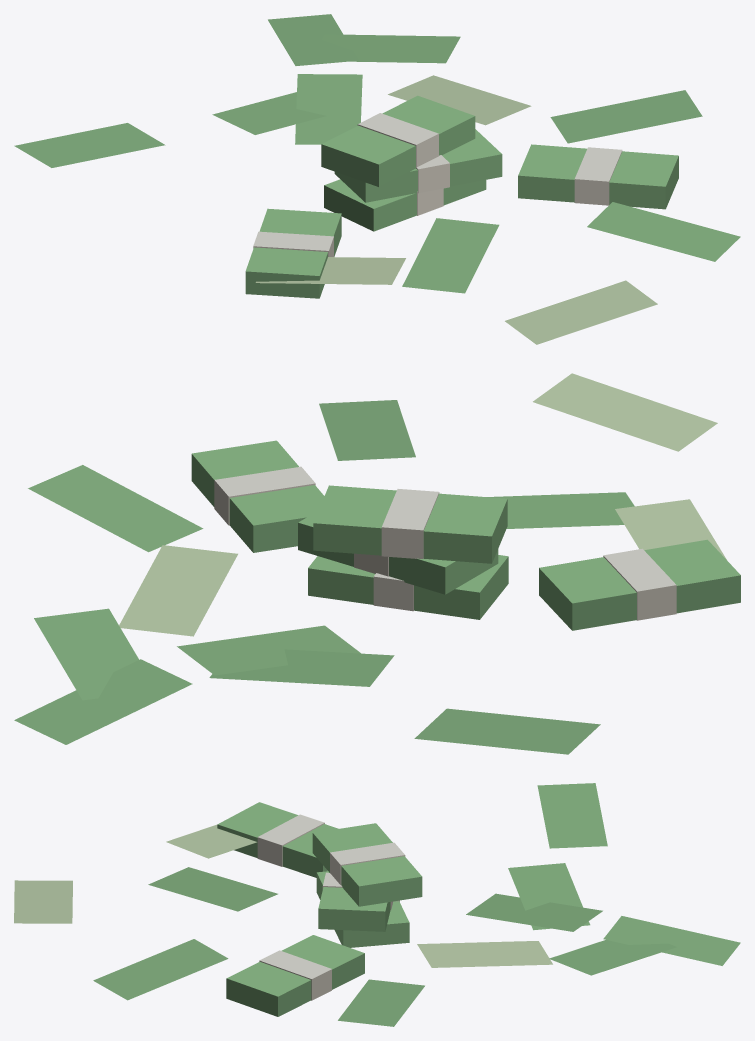
File: cash.glb
3 views of the same model, one above another, from view 1: azimuth 30°, elevation 25°; view 2: azimuth 150°, elevation 25°; view 3: azimuth 270°, elevation 25° (orthographic). The views are drawn at different scales.
Parts seen in each view (by area): view 1: cash; view 2: cash; view 3: cash.
Boxes of the visible parts, x1,y1,x2,y2 form: cash: (14,14,740,344); cash: (14,373,740,754); cash: (14,783,740,1026).
Size of the model in its own units: 2.58 by 0.306 by 3.24.
